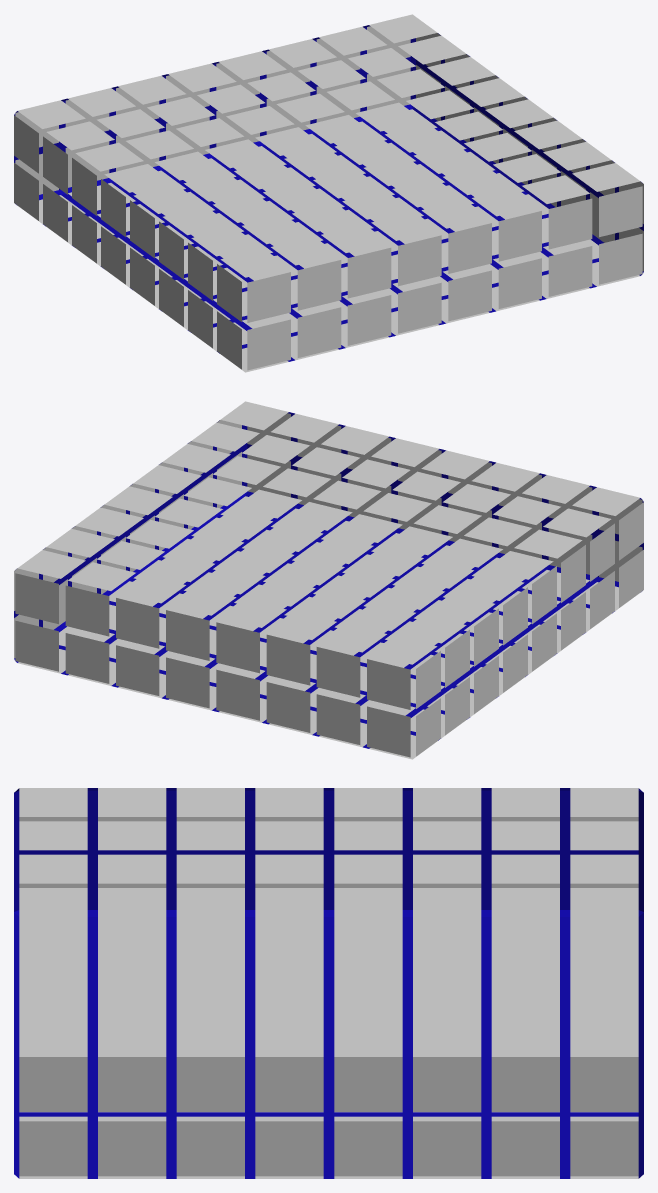
The model's file is Arena_Glow.fbx.
3 views of the same model, one above another, from view 1: azimuth 30°, elevation 25°; view 2: azimuth 150°, elevation 25°; view 3: azimuth 270°, elevation 25° (orthographic). The views are drawn at different scales.
Visible parts, largest first — view 1: Arena_Glow; view 2: Arena_Glow; view 3: Arena_Glow.
Part boxes in pixels (<box>): Arena_Glow: <box>14,14,643,372</box>; Arena_Glow: <box>14,401,643,759</box>; Arena_Glow: <box>14,788,643,1178</box>.
Size of the model in its own units: 7594 by 1712 by 7592.
